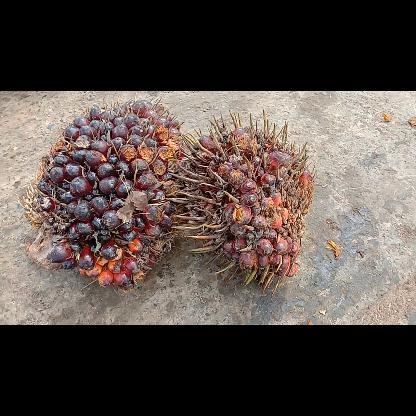Kurang masak: (19, 92, 190, 290)
TBS masak: (167, 110, 317, 296)
